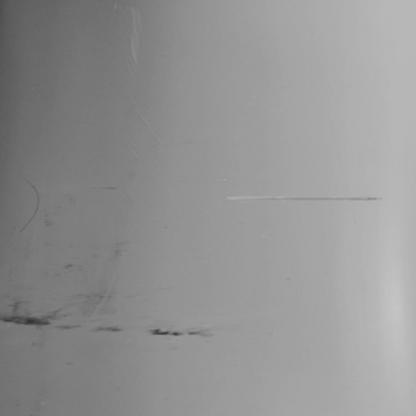sunshang: (222, 195, 382, 205), (19, 182, 42, 234)
